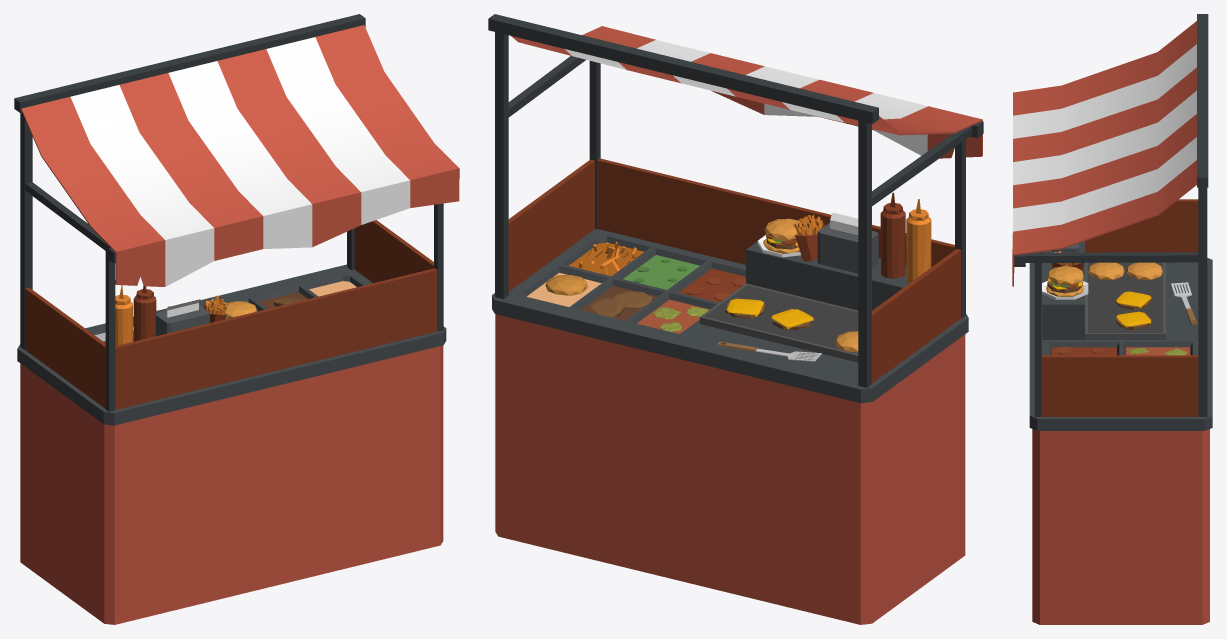
Rendered from SM_Props_Market_01.fbx.
3 views of the same model, side by side, from view 1: azimuth 30°, elevation 25°; view 2: azimuth 150°, elevation 25°; view 3: azimuth 270°, elevation 25° (orthographic). The views are drawn at different scales.
Parts seen in each view (by area): view 1: SM_Props_Market_01; view 2: SM_Props_Market_01; view 3: SM_Props_Market_01.
Boxes of the visible parts, x1,y1,x2,y2 form: SM_Props_Market_01: [14, 14, 459, 624]; SM_Props_Market_01: [488, 14, 983, 624]; SM_Props_Market_01: [1012, 14, 1212, 624].
Size of the model in its own units: 1.7 by 2.17 by 0.8772.
